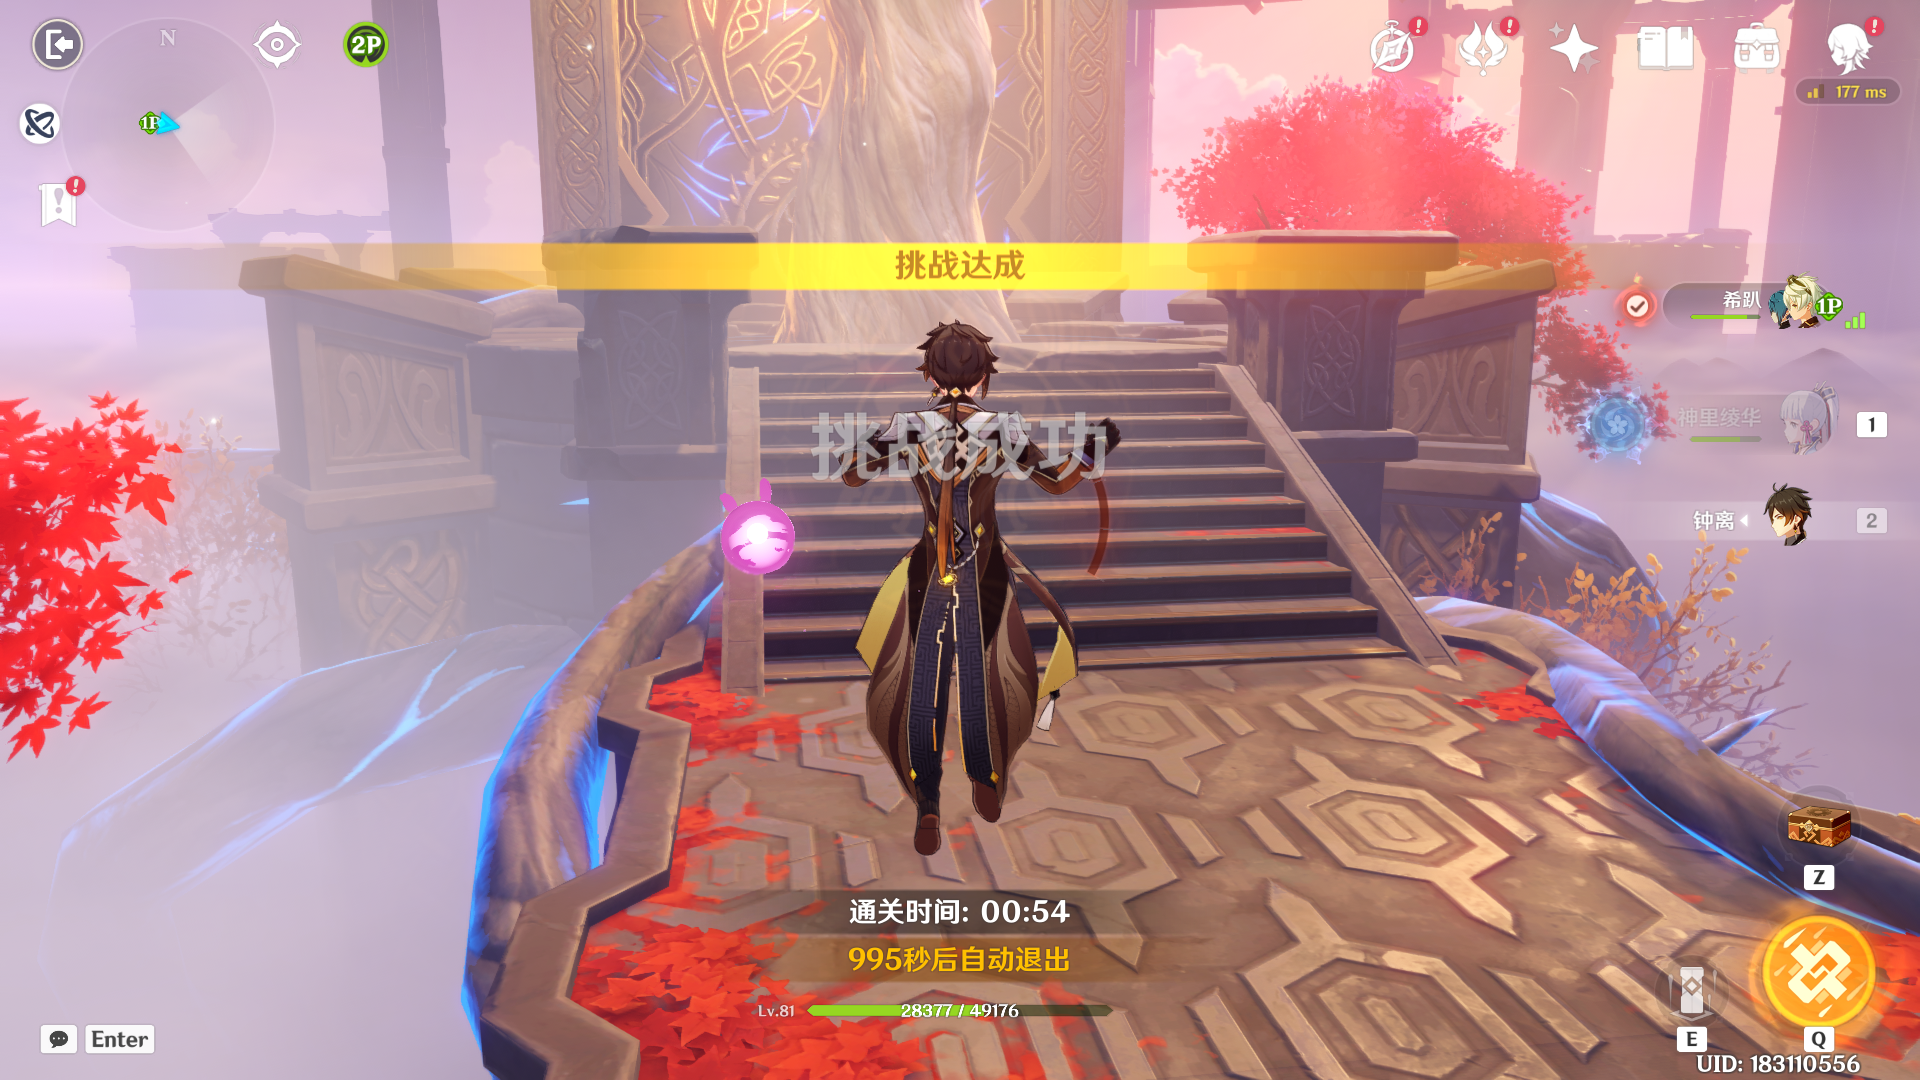character: (793, 287, 1120, 910)
